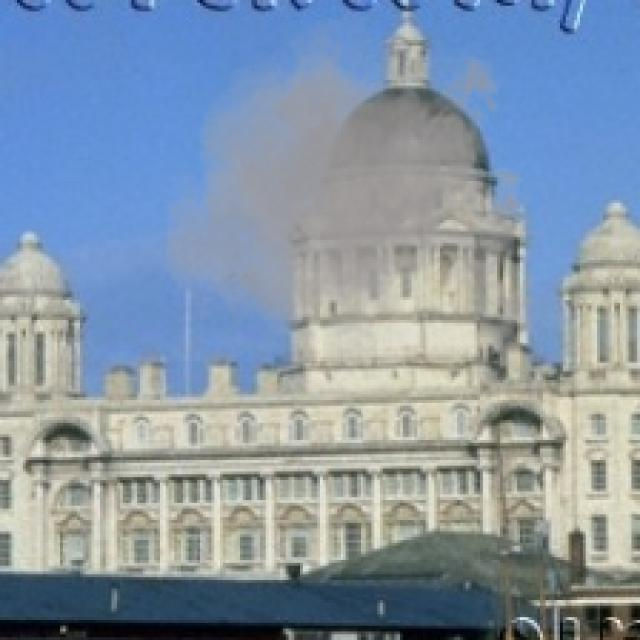smoke: (157, 0, 546, 389)
